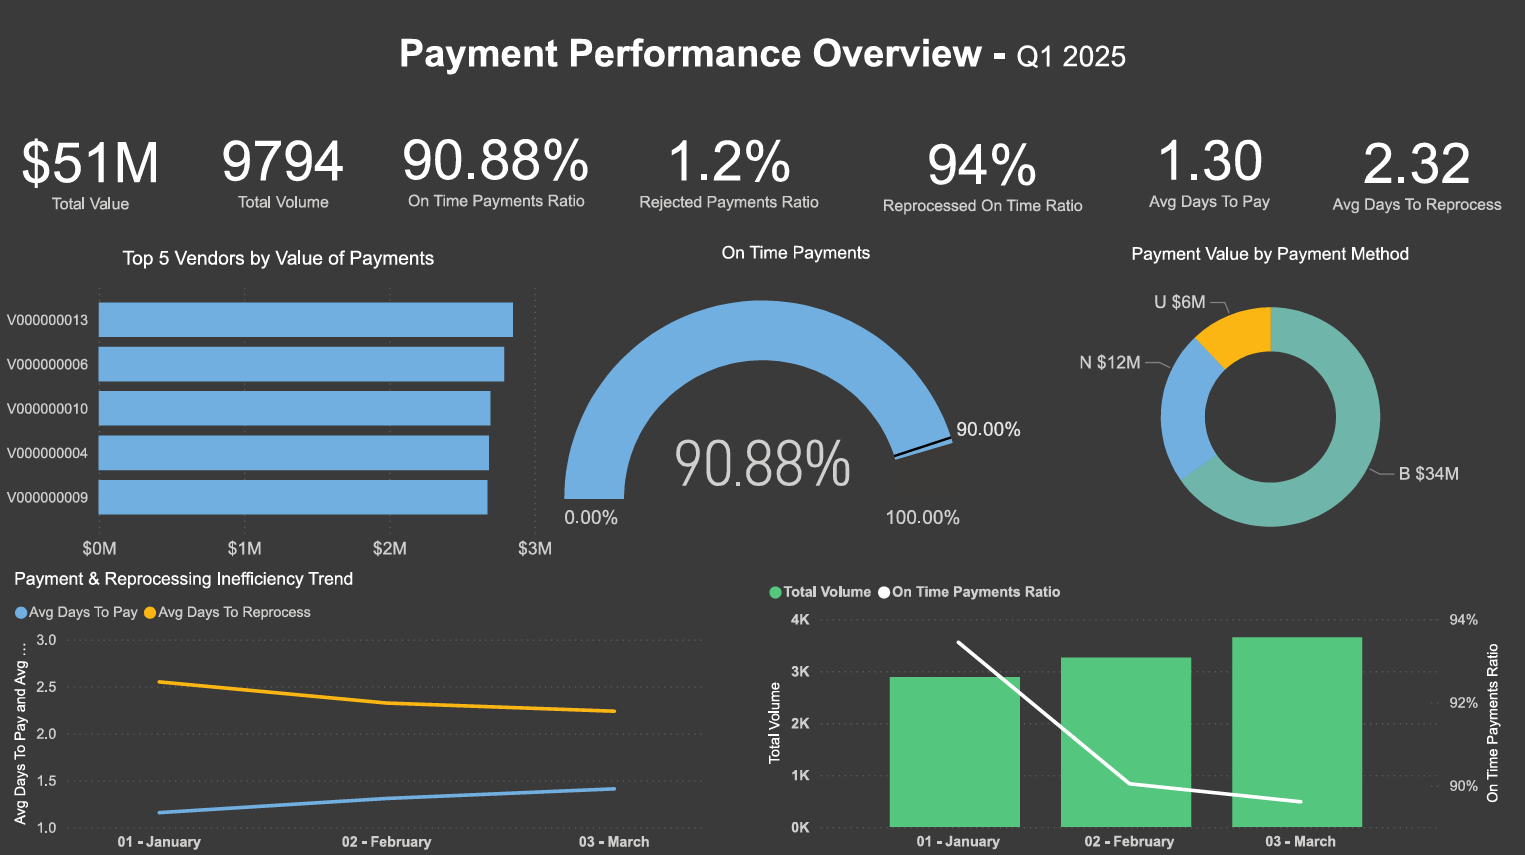

What the dashboard file says about the page in this screenshot:
{"tool":"powerbi","page":{"name":"Q1 Overview","canvas":[1280,720],"ordinal":0},"visuals":[{"type":"textbox","box":[0,21.1,1280,54.4],"z":0},{"type":"card","fields":{"Values":["Sum(Accounts_Payable_Sample.Amount in USD)"]},"box":[-2.6,74.5,159.9,130.9],"z":1000},{"type":"card","fields":{"Values":["Measures Table.Total Volume"]},"box":[157.3,73.3,162.2,130.9],"z":2000},{"type":"card","fields":{"Values":["Measures Table.On Time Payments Ratio"]},"box":[319.5,72.2,194.7,130.9],"z":3000},{"type":"card","fields":{"Values":["Measures Table.Rejected Payments Ratio"]},"box":[514.2,73.3,195.8,130.9],"z":4000},{"type":"card","fields":{"Values":["Measures Table.Reprocessed On Time Ratio"]},"box":[719.3,75.7,210.9,130.9],"z":5000},{"type":"card","fields":{"Values":["Measures Table.Avg Days To Pay"]},"box":[930.2,73.3,169.2,129.8],"z":6000},{"type":"card","fields":{"Values":["Measures Table.Avg Days To Reprocess"]},"box":[1099,78,179,129],"z":7000},{"type":"gauge","title":"On Time Payments ","fields":{"TargetValue":["Measures Table.On Time Target"],"Y":["Measures Table.On Time Payments Ratio"]},"box":[468.9,203.3,397.8,272.2],"z":8000},{"type":"lineClusteredColumnComboChart","fields":{"Category":["Accounts_Payable_Sample.Months"],"Y2":["Measures Table.On Time Payments Ratio"],"Y":["Measures Table.Total Volume"]},"box":[640,475.6,624.4,244.4],"z":9000},{"type":"donutChart","title":"Payment Value by Payment Method","fields":{"Category":["Accounts_Payable_Sample.Payment Method"],"Y":["Sum(Accounts_Payable_Sample.Amount in USD)"]},"box":[866.7,204.4,397.8,271.1],"z":10000},{"type":"lineChart","title":"Payment & Reprocessing Inefficiency Trend","fields":{"Category":["Accounts_Payable_Sample.Months"],"Y":["Measures Table.Avg Days To Pay","Measures Table.Avg Days To Reprocess"]},"box":[7.8,475.6,588.9,244.4],"z":11000},{"type":"clusteredBarChart","title":"Top 5 Vendors by Value of Payments","fields":{"Category":["Accounts_Payable_Sample.Vendor Number"],"Y":["Sum(Accounts_Payable_Sample.Amount in USD)"]},"box":[0,206.7,468.9,268.9],"z":12000}]}

Visuals, with their boxes in screenshot pixels (x1, y1, x2, y2), scaled from the page's 1280x720 canvas onto the 1525x855 screenshot:
textbox: [0,25,1524,90]
card - Sum(Accounts_Payable_Sample.Amount in USD): [0,88,187,244]
card - Measures Table.Total Volume: [187,87,381,242]
card - Measures Table.On Time Payments Ratio: [381,86,613,241]
card - Measures Table.Rejected Payments Ratio: [613,87,846,242]
card - Measures Table.Reprocessed On Time Ratio: [857,90,1108,245]
card - Measures Table.Avg Days To Pay: [1108,87,1310,241]
card - Measures Table.Avg Days To Reprocess: [1309,93,1523,246]
"On Time Payments " gauge: [559,241,1033,565]
lineClusteredColumnComboChart - Accounts_Payable_Sample.Months x Measures Table.On Time Payments Ratio: [762,565,1506,854]
"Payment Value by Payment Method" donutChart: [1033,243,1507,565]
"Payment & Reprocessing Inefficiency Trend" lineChart: [9,565,711,854]
"Top 5 Vendors by Value of Payments" clusteredBarChart: [0,245,559,565]
